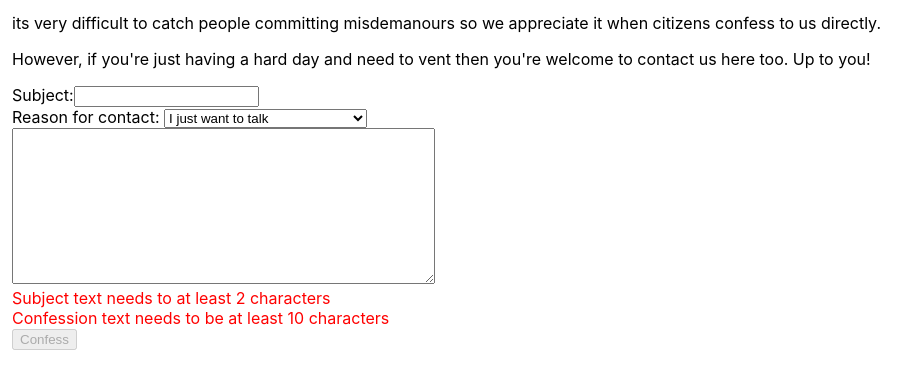
Tests for confession page › Test warning message if message too short but subject is long enough
Type "I Confess" into the field.
click(166, 96); type("I Confess")  # box [74,86,259,107]
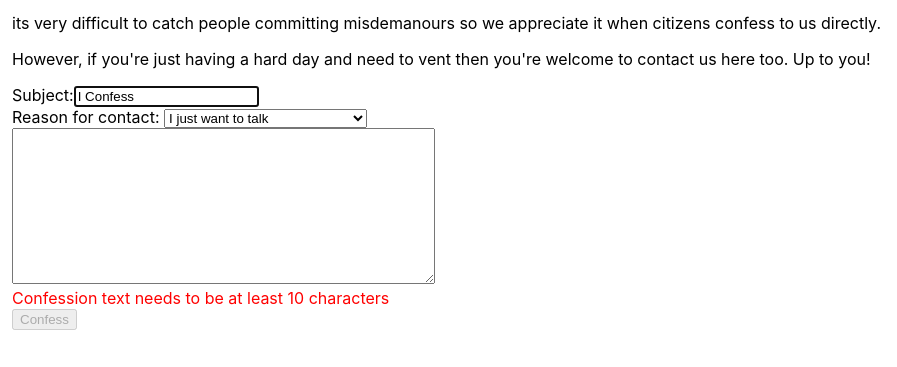
Check: the text "Confession text needs to be at least 10 characters" is shown, box [12,288,389,308]
